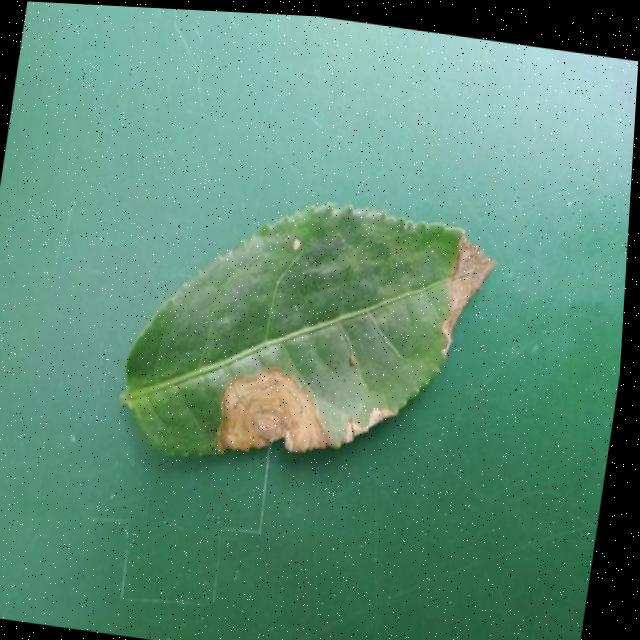Tea cloud leaf blight: (215, 350, 339, 476)
